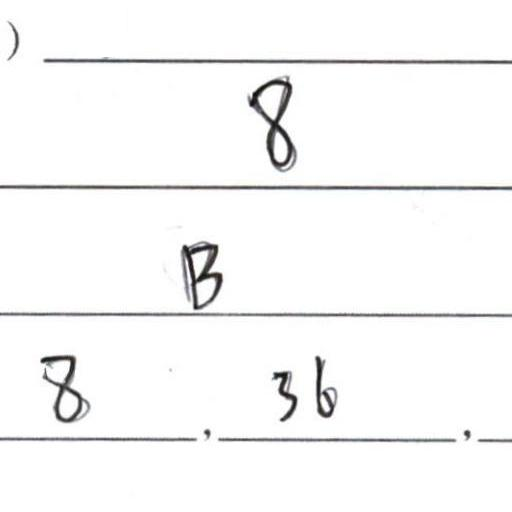ans: (238, 68, 300, 171), (265, 349, 337, 423), (177, 238, 228, 312), (38, 351, 88, 423)
